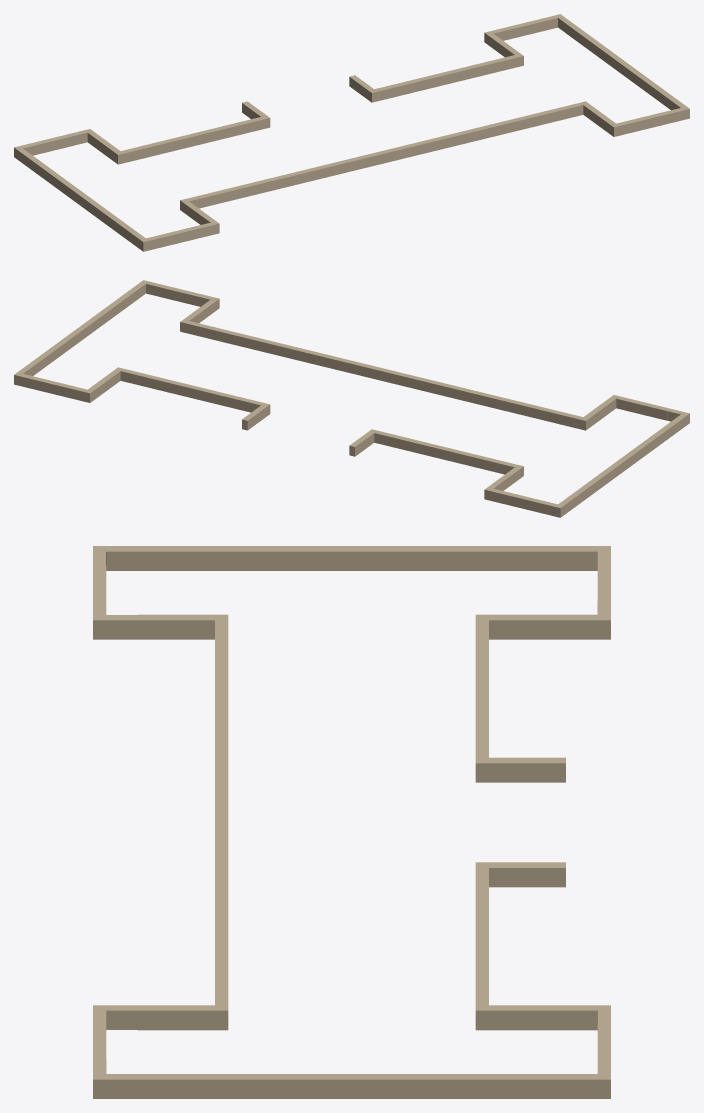
File: SM_InbetweenLayer2.glb
3 renders of one model, top to bottom at view 1: azimuth 30°, elevation 25°; view 2: azimuth 150°, elevation 25°; view 3: azimuth 270°, elevation 25°, orthographic. The views are drawn at different scales.
Visible parts, largest first — view 1: in between trim; view 2: in between trim; view 3: in between trim.
Part boxes in pixels (bbox=[...]): in between trim: bbox=[14, 14, 689, 251]; in between trim: bbox=[14, 280, 689, 517]; in between trim: bbox=[93, 546, 610, 1098].
Bounding box in the file's own units: 59.02 × 1 × 24.22.
